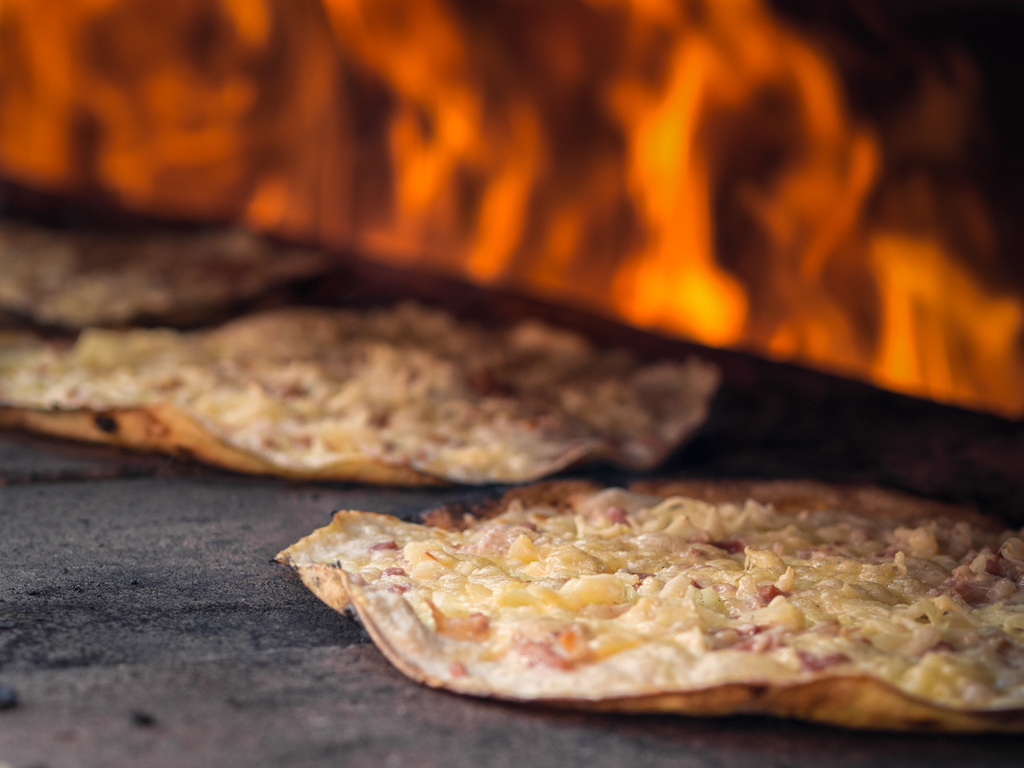Pizza: (296, 471, 1024, 741), (0, 297, 724, 492), (0, 222, 348, 328)
